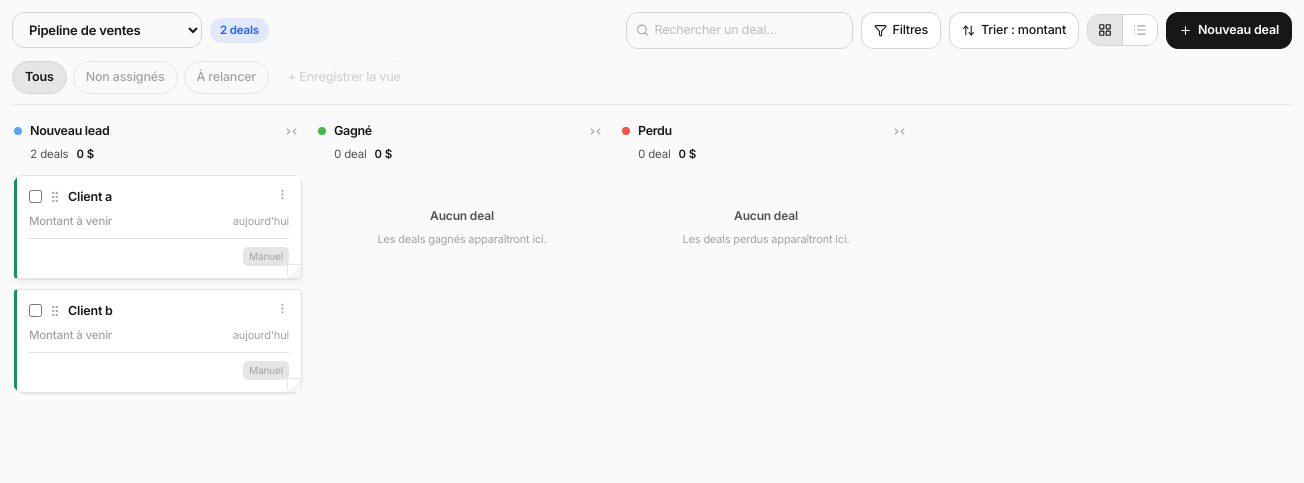
Test: board — actions en lot › assigner en lot appelle le parent pour chaque deal coché
Click the checkbox named "Sélectionner Client a".
click(36, 196)  # box [29,190,42,203]
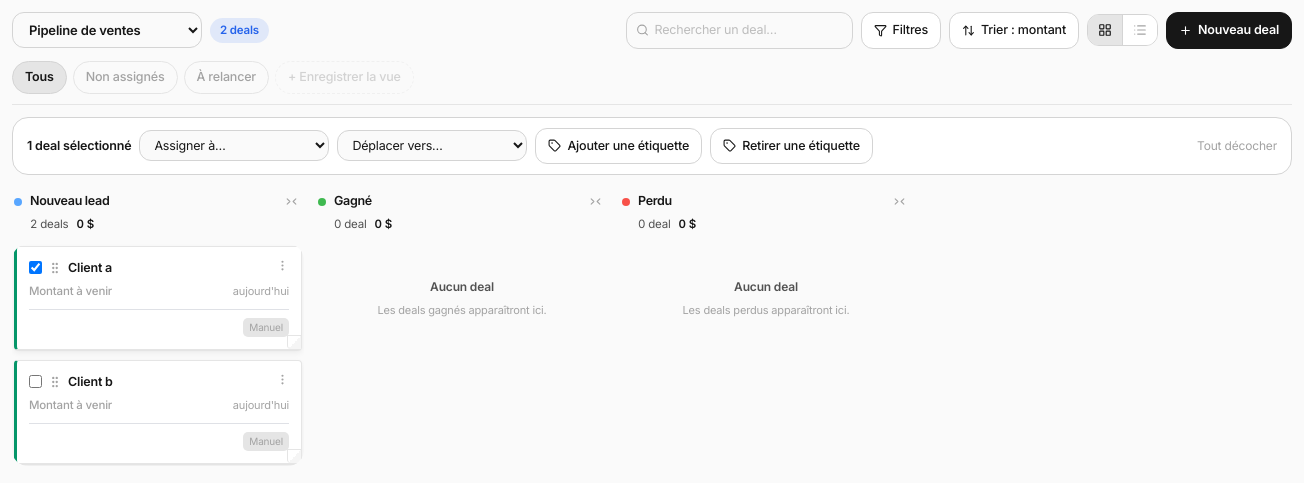
Click the checkbox named "Sélectionner Client b".
click(36, 381)  # box [29,374,42,388]
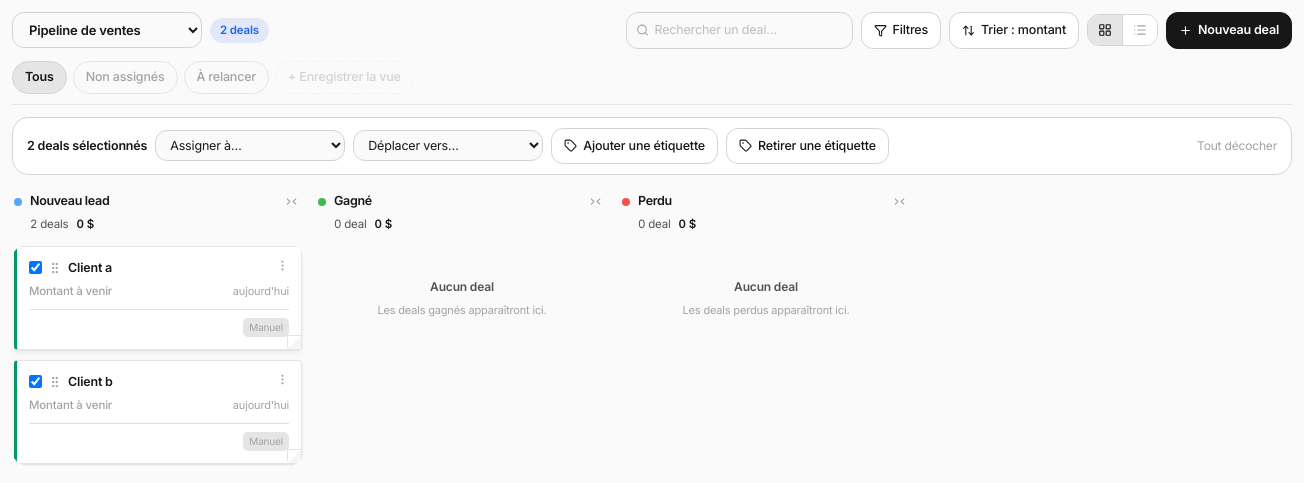
Select "Alex" in the 2nd dropdown at [250, 146], box [155,130,345,161]
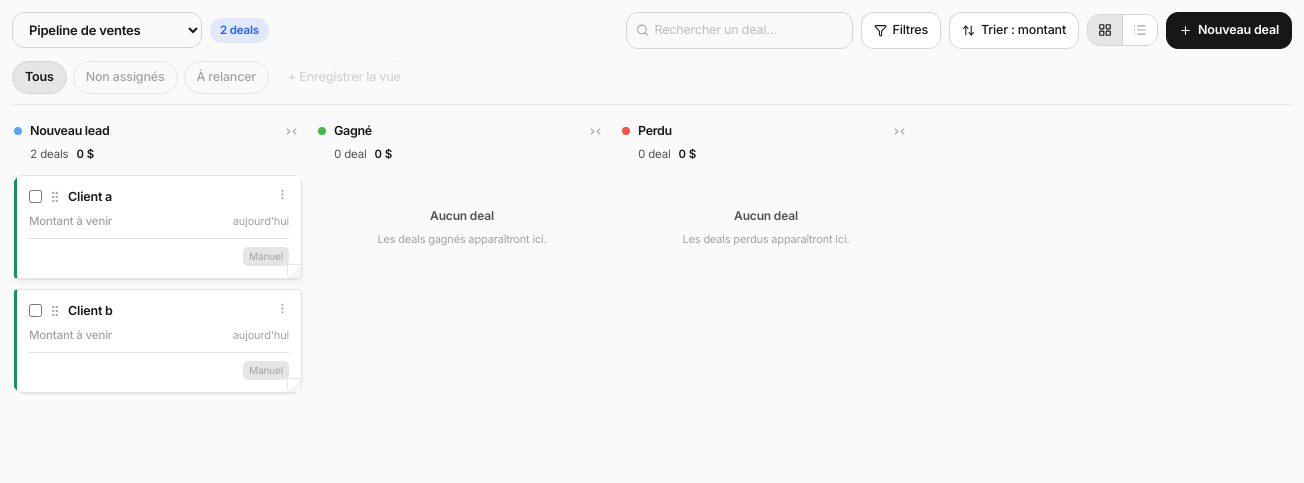
Check: the text "sélectionné" is gone
